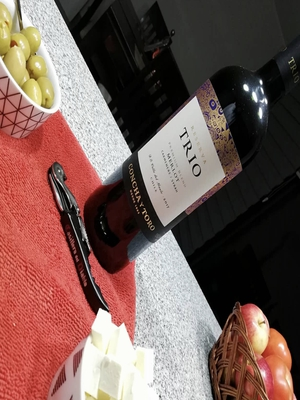trio merlot: (82, 24, 246, 290)
